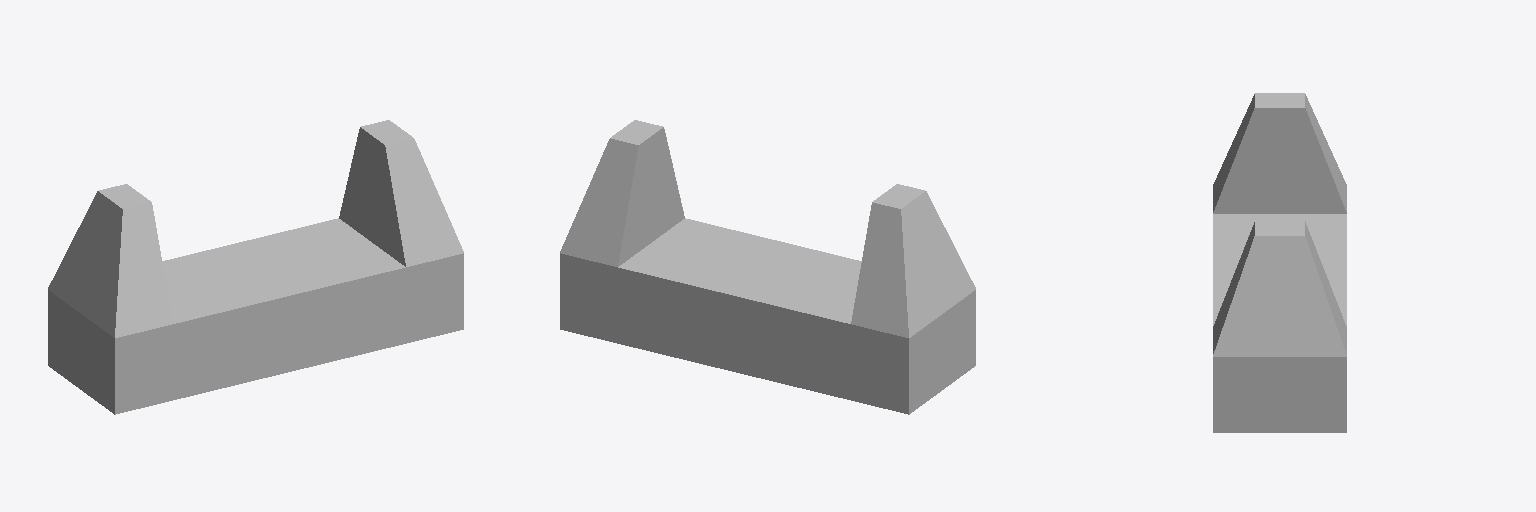
The model's file is telefork.obj.
The picture shows the model from 3 angles: view 1: azimuth 30°, elevation 25°; view 2: azimuth 150°, elevation 25°; view 3: azimuth 270°, elevation 25°; orthographic projection.
Bounding box in the file's own units: 1.2 × 0.6 × 0.4.